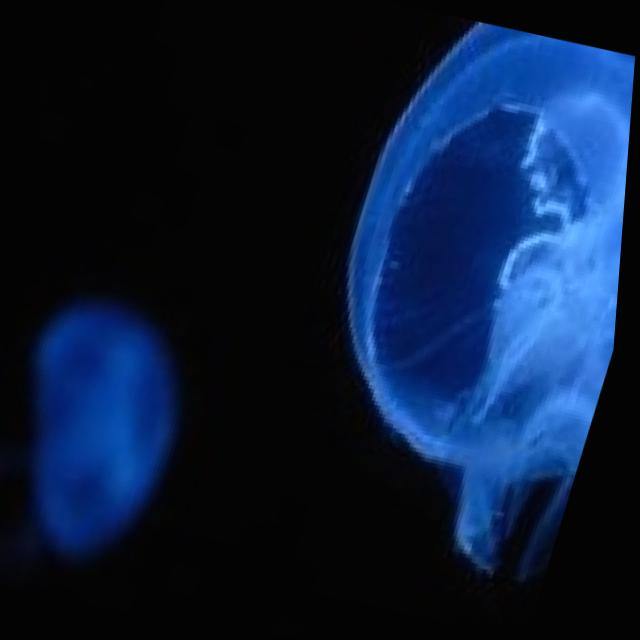Moon-jellyfish: (261, 7, 639, 597)
